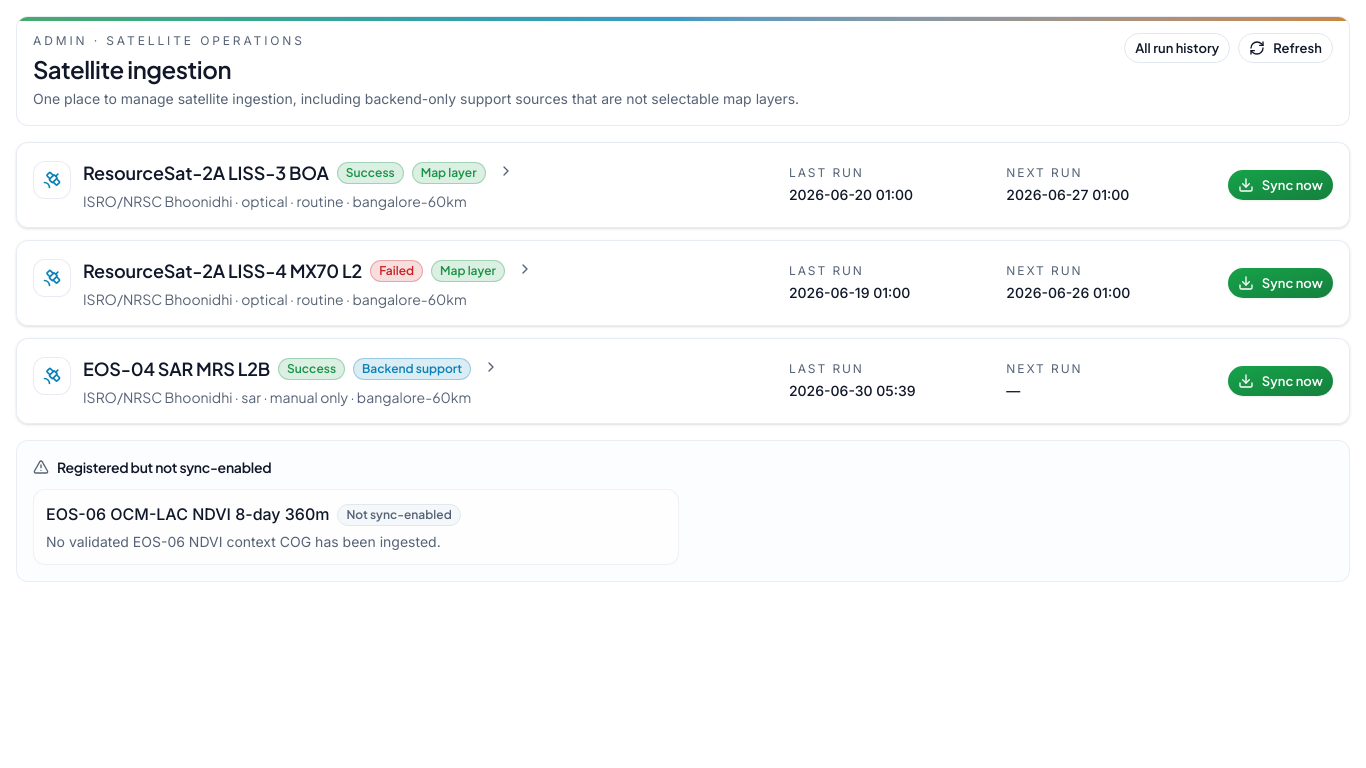
Test: AdminIngestionSources › keeps backend-only EOS-04 in the managed satellite section with sync and history
Expected: the text "EOS-04 SAR MRS L2B" is shown, [83,355,270,383]
Expected: the text "Backend support" is shown, [353,358,471,380]
Click the button with aria-label "Expand EOS-04 SAR MRS L2B" at (403, 381), box [33,355,773,407]
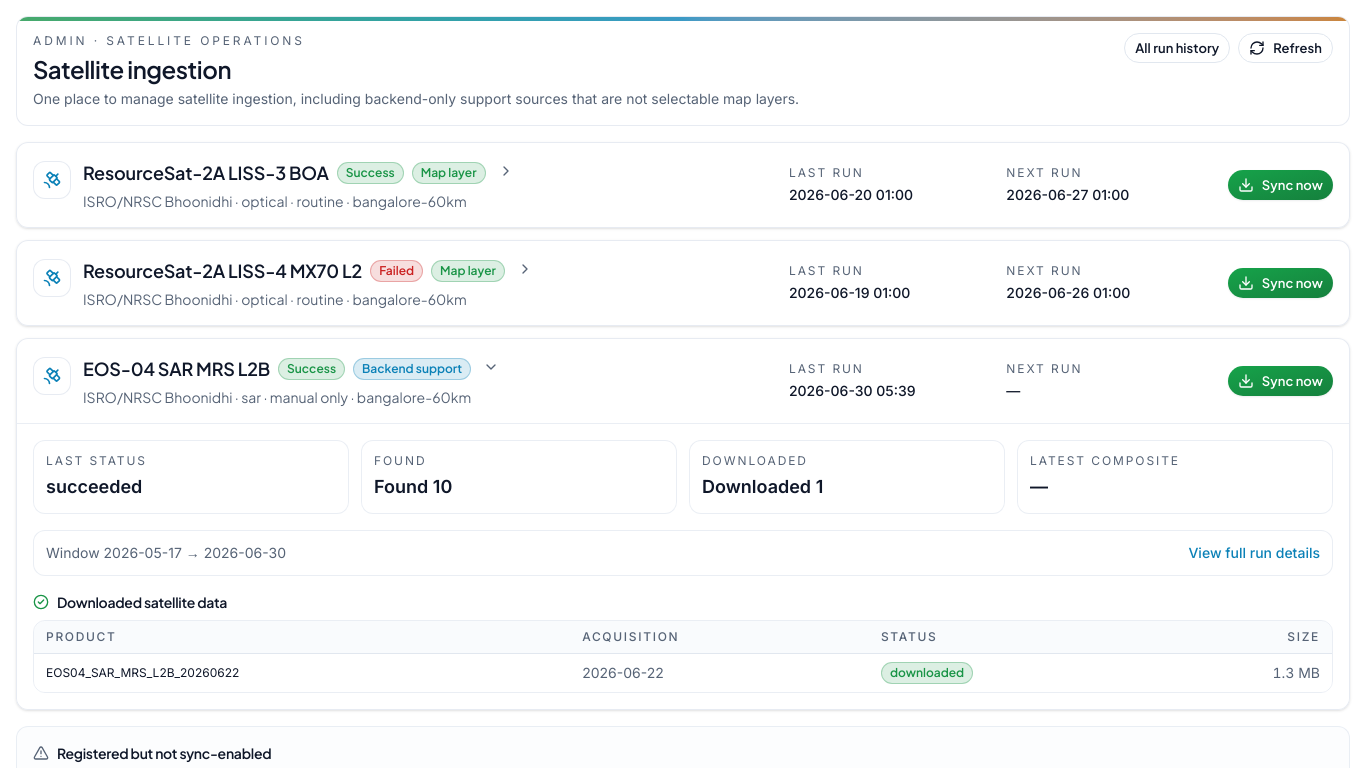
Expected: the text "2026-06-30 05:39" is shown, [789,382,916,399]
Expected: the text "EOS04_SAR_MRS_L2B_20260622" is shown, [34,654,570,692]
Click the button with aria-label "Sync now EOS-04 SAR MRS L2B" at (1280, 381), box [1228,366,1333,396]
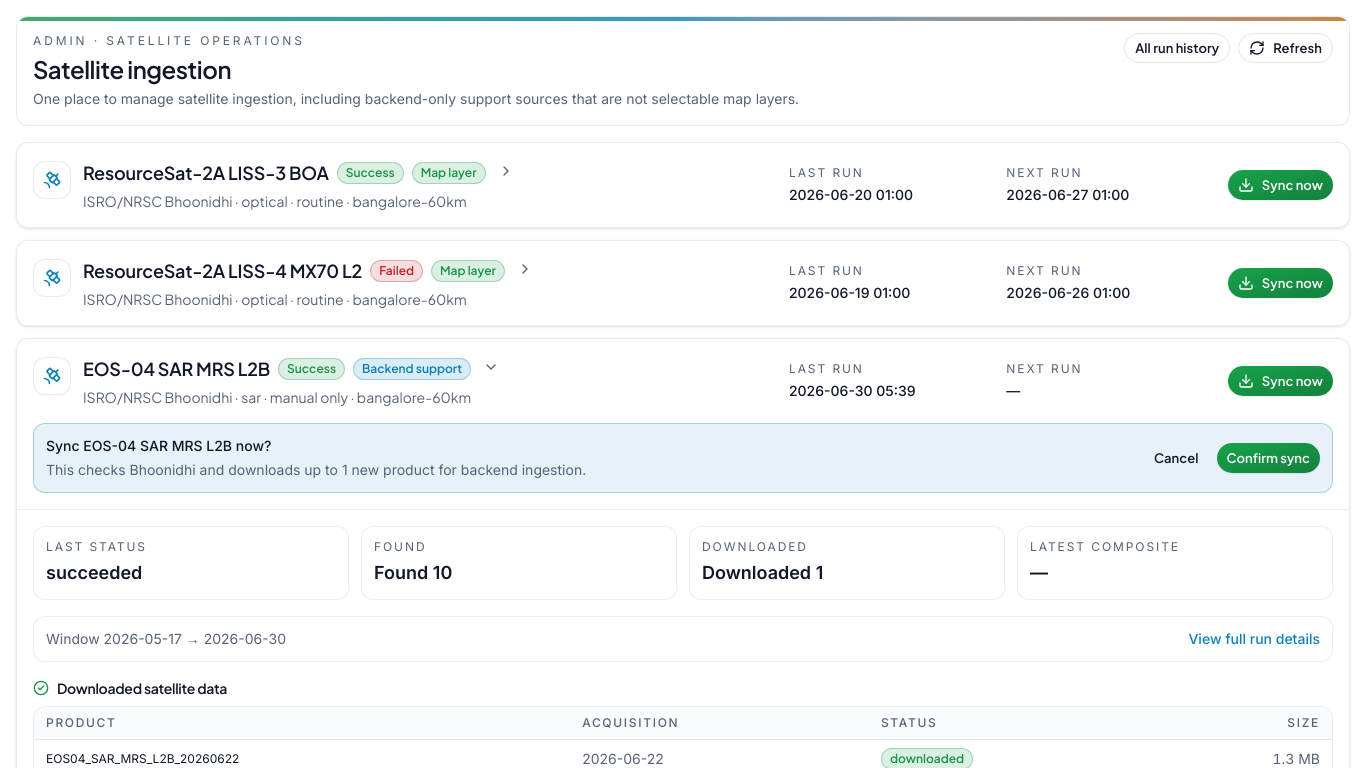
Click the button "Confirm sync" at (1268, 458), box [1216,443,1320,473]
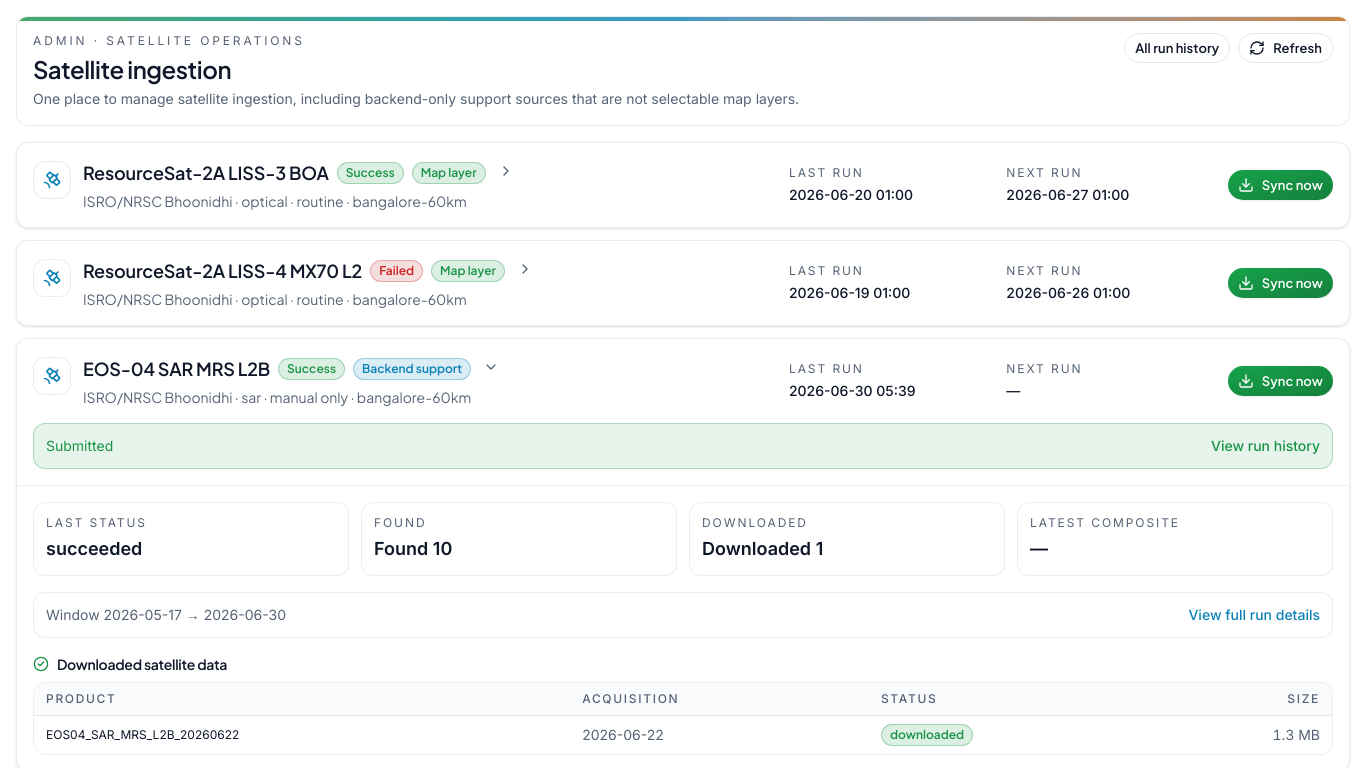
Expected: the text "Submitted" is shown, [46,436,113,456]
